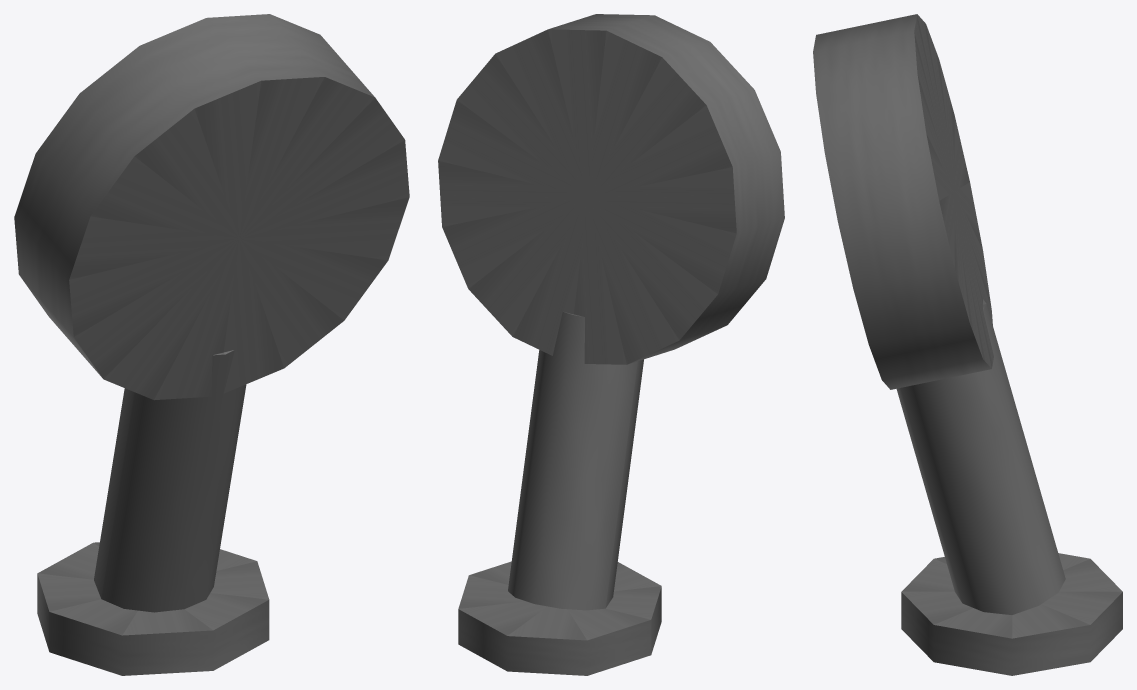
The model's file is mastarmcurve_10x2_c5_down.obj.
3 renders of one model, left to right at view 1: azimuth 30°, elevation 25°; view 2: azimuth 150°, elevation 25°; view 3: azimuth 270°, elevation 25°, orthographic. The views are drawn at different scales.
Visible parts, largest first — view 1: mastarm_10x2_c5_down; view 2: mastarm_10x2_c5_down; view 3: mastarm_10x2_c5_down.
Boxes of the visible parts, x1,y1,x2,y2 form: mastarm_10x2_c5_down: [14, 14, 409, 675]; mastarm_10x2_c5_down: [438, 14, 784, 675]; mastarm_10x2_c5_down: [813, 14, 1122, 675].
Bounding box in the file's own units: 0.6552 × 1.19 × 0.5595.
